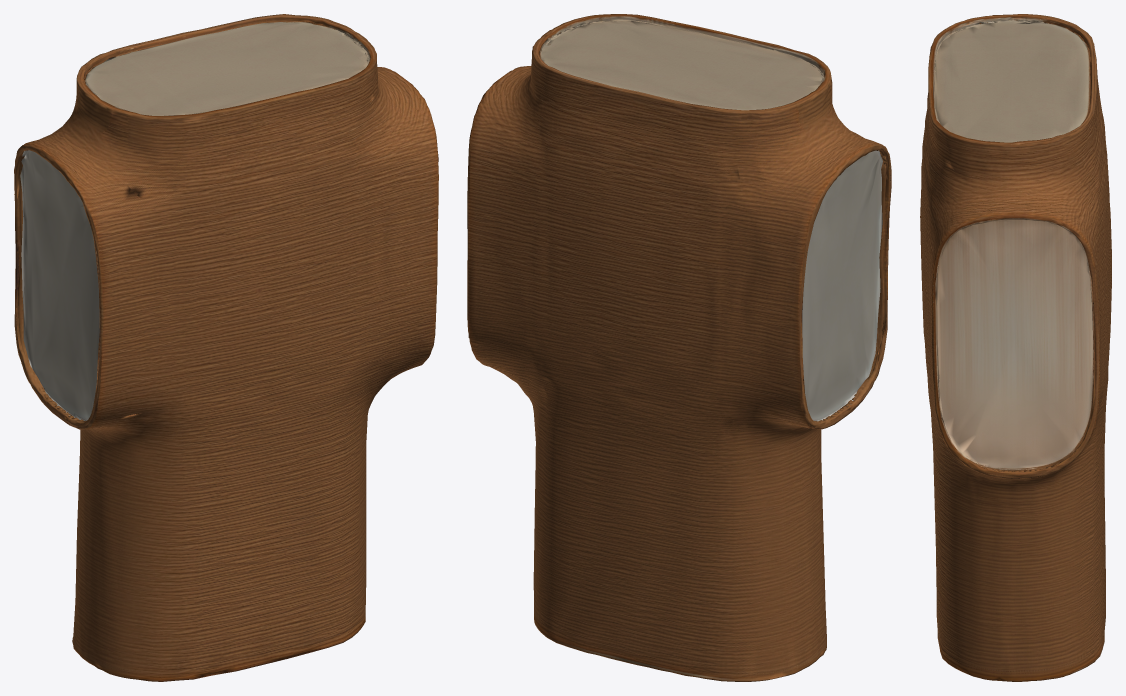
The model's file is lamp_03.glb.
The picture shows the model from 3 angles, left to right: view 1: azimuth 30°, elevation 25°; view 2: azimuth 150°, elevation 25°; view 3: azimuth 270°, elevation 25°; orthographic projection. The views are drawn at different scales.
Visible parts, largest first — view 1: tripo_part_0, tripo_part_2, tripo_part_4; view 2: tripo_part_0, tripo_part_4, tripo_part_2; view 3: tripo_part_0, tripo_part_5, tripo_part_2.
Boxes of the visible parts, x1,y1,x2,y2 form: tripo_part_0: (14, 14, 438, 681); tripo_part_2: (84, 21, 369, 115); tripo_part_4: (20, 150, 99, 420); tripo_part_0: (467, 14, 891, 681); tripo_part_4: (802, 150, 882, 421); tripo_part_2: (539, 19, 823, 110); tripo_part_0: (920, 14, 1111, 681); tripo_part_5: (937, 220, 1094, 470); tripo_part_2: (934, 21, 1090, 142).
Bounding box in the file's own units: 0.6556 × 1 × 0.319.
5 materials, 5 textured.
